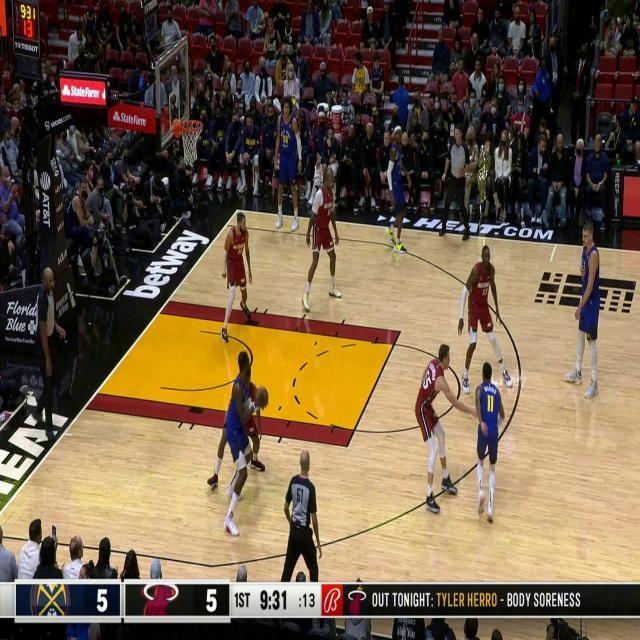rim: (256, 384, 268, 409)
